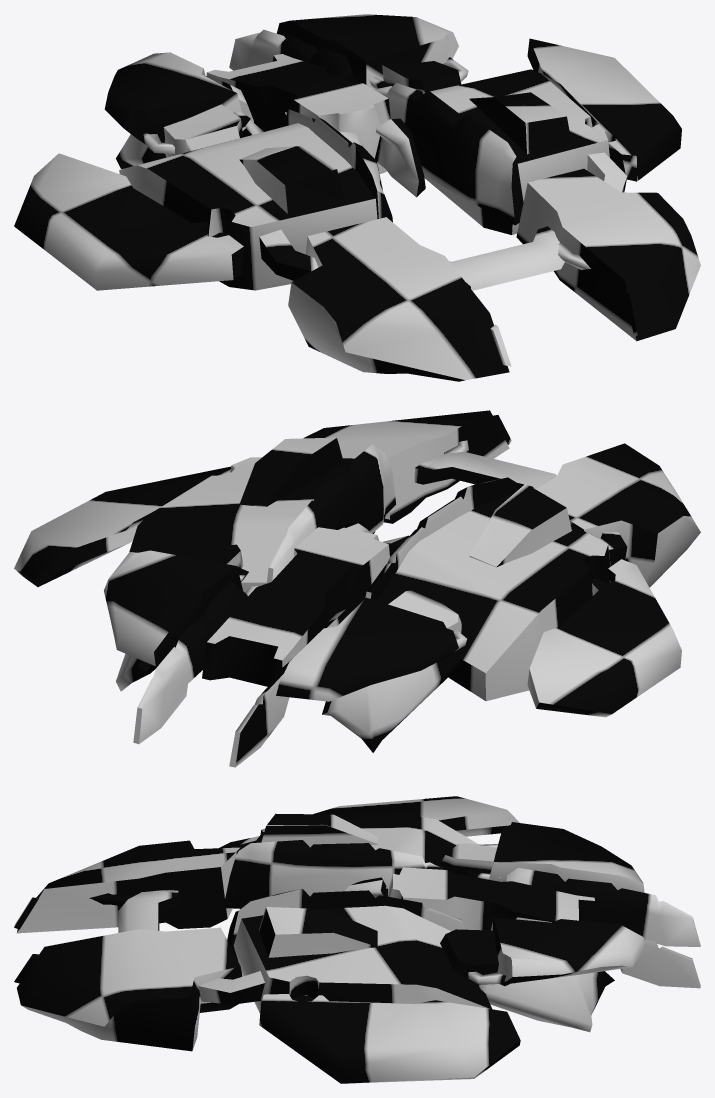
File: devolarium.obj
The picture shows the model from 3 angles, top to bottom: view 1: azimuth 30°, elevation 25°; view 2: azimuth 150°, elevation 25°; view 3: azimuth 270°, elevation 25°; orthographic projection. The views are drawn at different scales.
Visible parts, largest first — view 1: devolarium; view 2: devolarium; view 3: devolarium.
Part boxes in pixels (x1,y1,x2,y2): devolarium: (14, 14, 700, 381); devolarium: (14, 410, 700, 767); devolarium: (14, 796, 700, 1083).
Size of the model in its own units: 5.1 by 1.08 by 5.77.
Materials: 1 (1 with a texture image).
